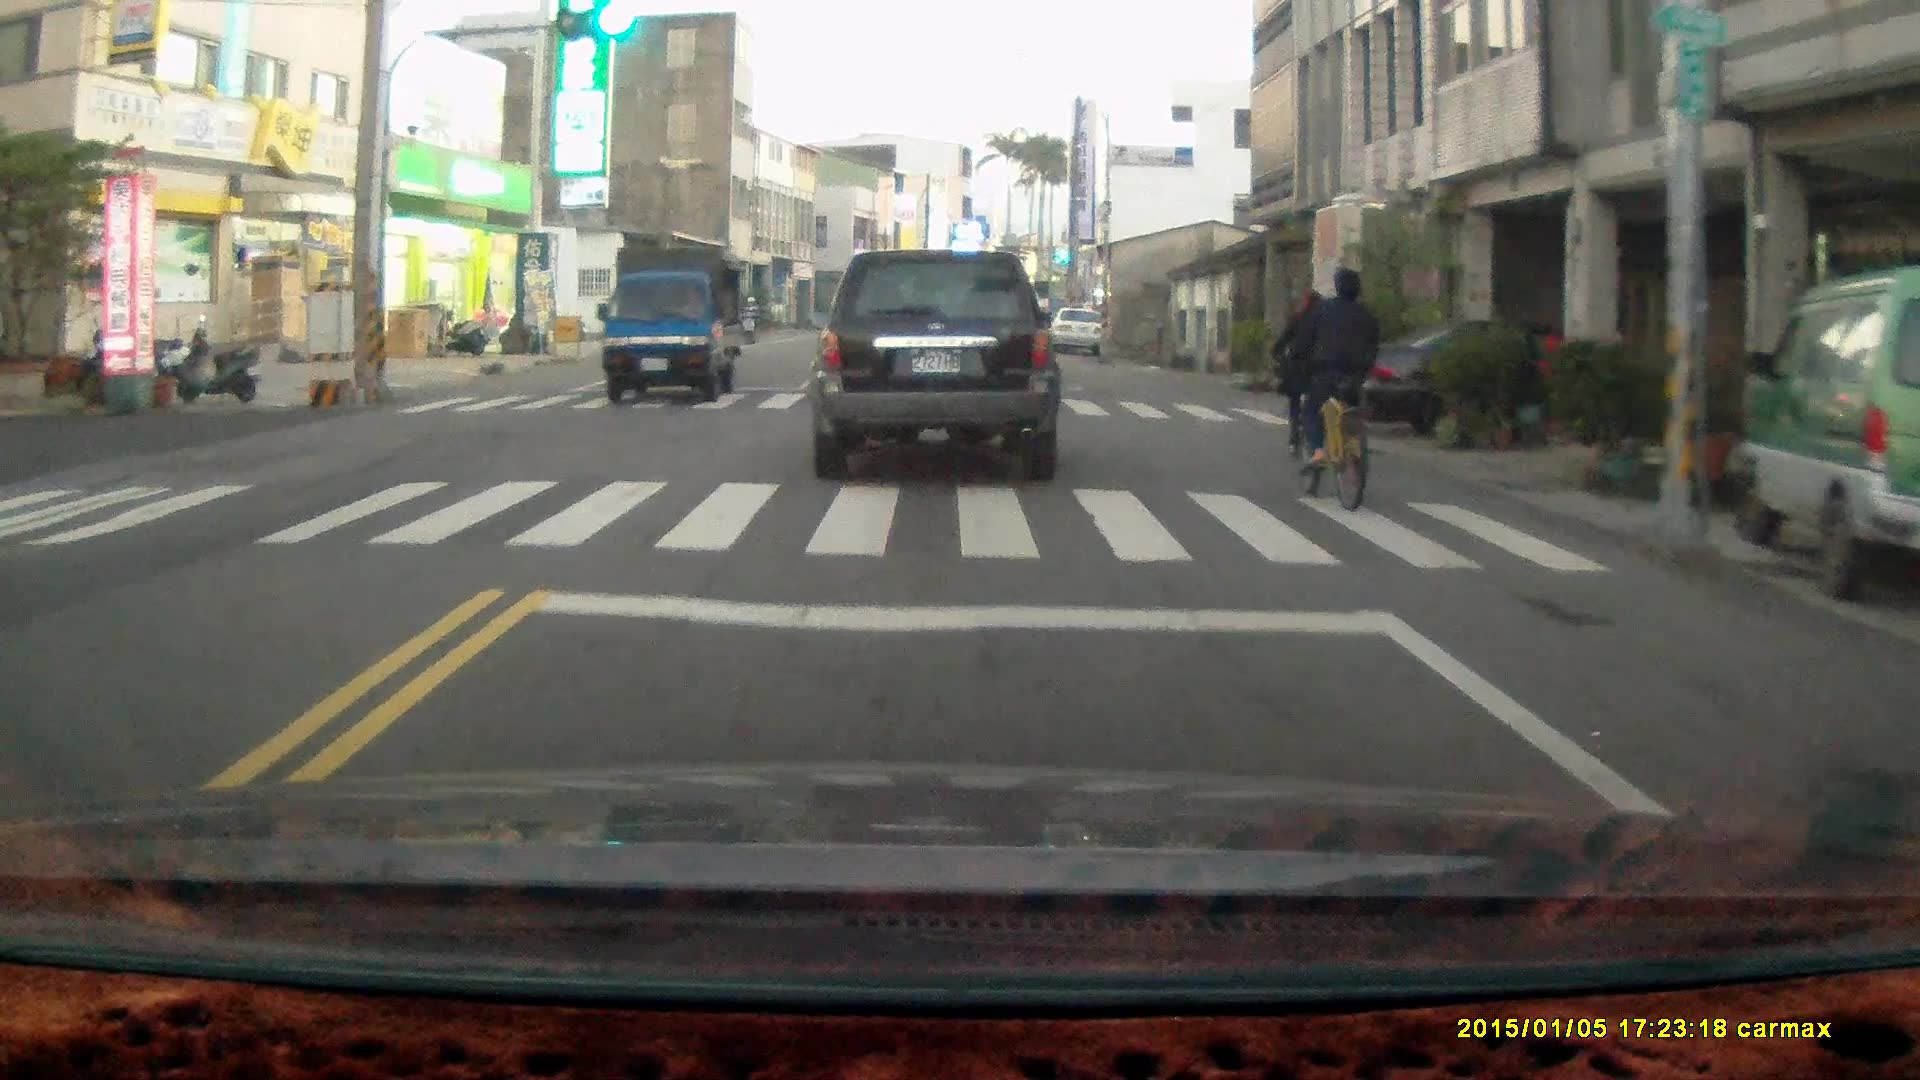rider: (1283, 264, 1382, 507), (1276, 274, 1341, 452), (738, 292, 761, 344)
vehicle: (807, 247, 1062, 481), (1741, 277, 1920, 597), (1361, 318, 1693, 451), (600, 244, 749, 407), (1052, 307, 1113, 356)
